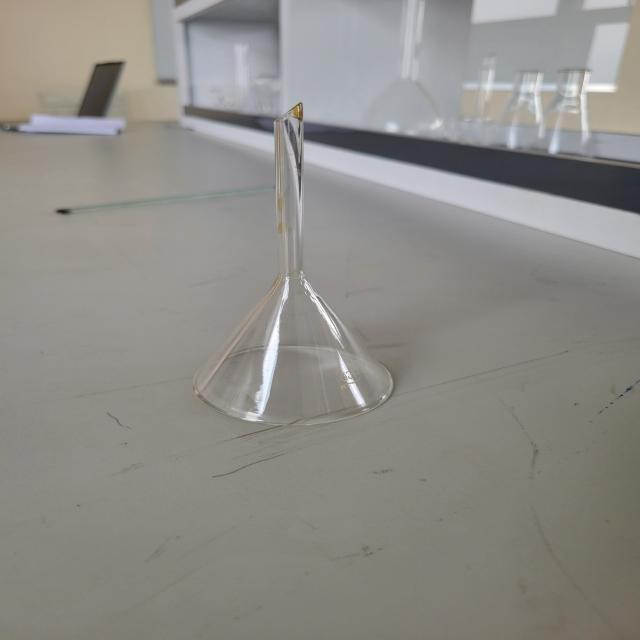Funnel: (166, 65, 440, 455)
